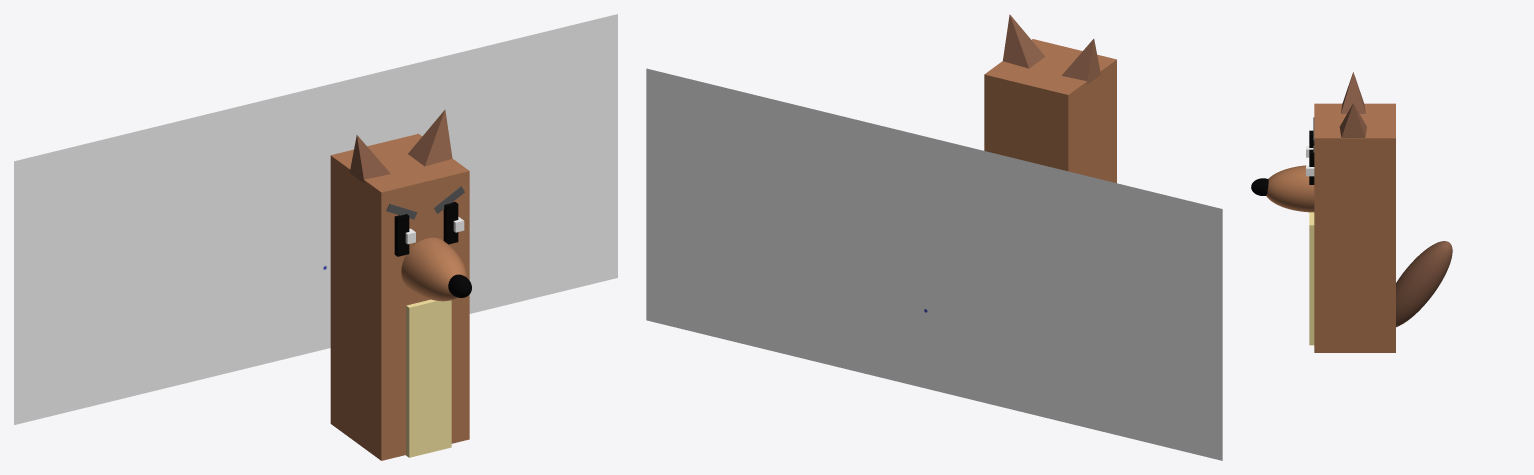
Rendered from Cayote.fbx.
3 views of the same model, side by side, from view 1: azimuth 30°, elevation 25°; view 2: azimuth 150°, elevation 25°; view 3: azimuth 270°, elevation 25° (orthographic). The views are drawn at different scales.
Parts seen in each view (by area): view 1: root, node_id26 (×3), node_id40, node_id42, node_id32; view 2: root, node_id26, node_id40, node_id42; view 3: node_id26 (×4), node_id40, node_id42.
Part boxes in pixels (bbox=[...]): root: bbox=[14, 14, 617, 424]; node_id26 (×3): bbox=[330, 133, 469, 460]; node_id40: bbox=[408, 109, 452, 166]; node_id42: bbox=[349, 135, 390, 183]; node_id32: bbox=[394, 214, 409, 256]; root: bbox=[646, 68, 1222, 460]; node_id26: bbox=[984, 39, 1116, 183]; node_id40: bbox=[1003, 14, 1045, 68]; node_id42: bbox=[1061, 39, 1100, 84]; node_id26 (×4): bbox=[1266, 103, 1452, 352]; node_id40: bbox=[1339, 103, 1366, 137]; node_id42: bbox=[1341, 72, 1365, 113].
Bounding box in the file's own units: 0.862 × 0.427 × 0.4152.
14 materials, 14 textured.
